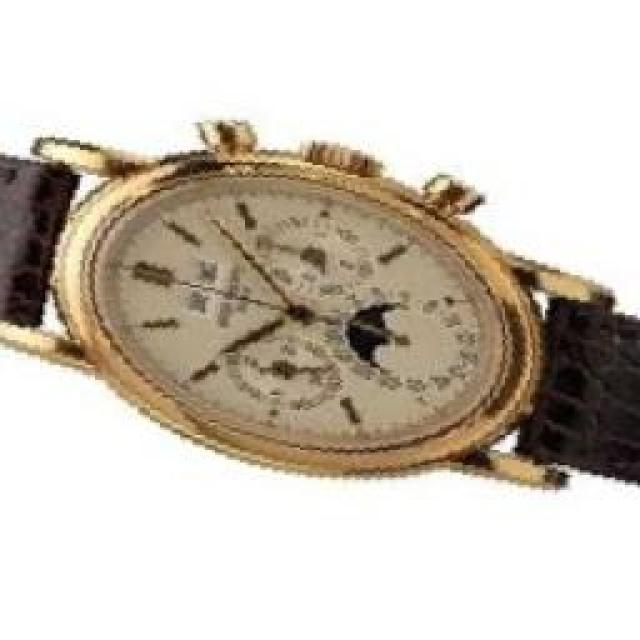saat: (0, 110, 640, 506)
